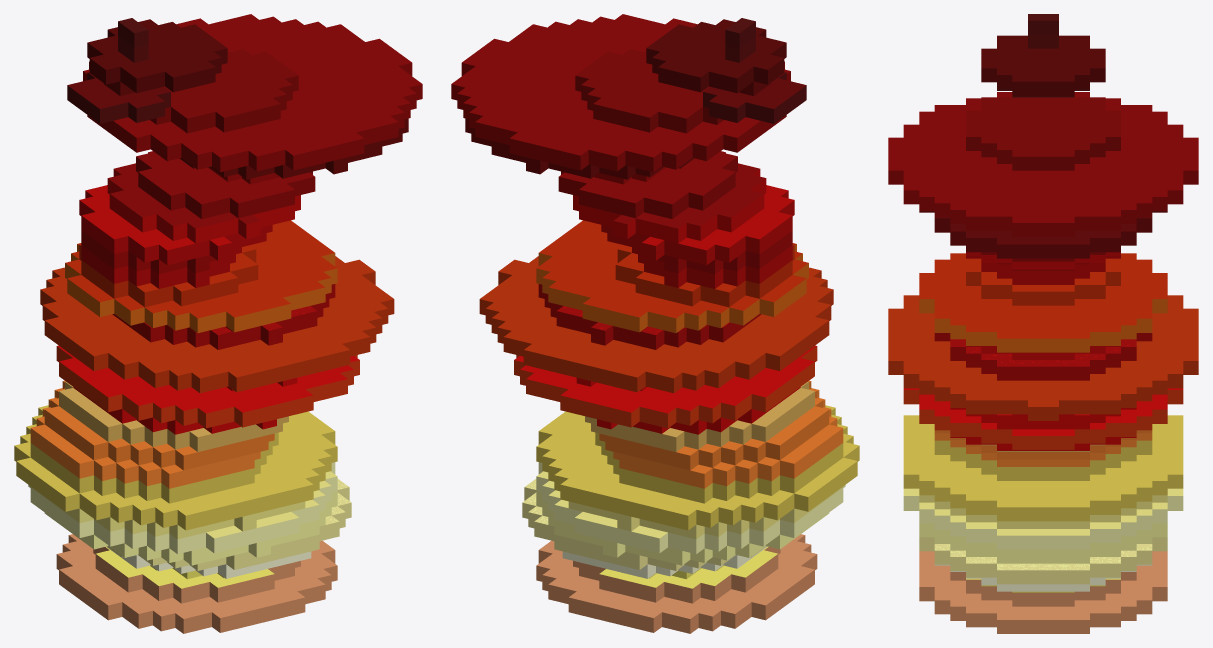
File: SMRTD0_flame.obj
3 views of the same model, side by side, from view 1: azimuth 30°, elevation 25°; view 2: azimuth 150°, elevation 25°; view 3: azimuth 270°, elevation 25° (orthographic). The views are drawn at different scales.
Visible parts, largest first — view 1: TorchFlame; view 2: TorchFlame; view 3: TorchFlame.
Boxes of the visible parts, left/top/right/bottom form: TorchFlame: left=14, top=14, right=422, bottom=633; TorchFlame: left=451, top=14, right=859, bottom=633; TorchFlame: left=888, top=14, right=1198, bottom=633.
Bounding box in the file's own units: 0.6579 × 1 × 0.5263.
1 material, 1 textured.
